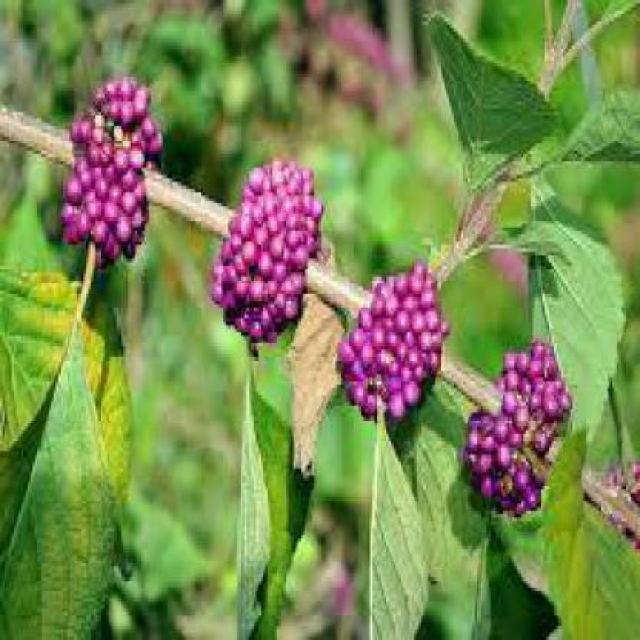flower: (210, 150, 327, 339), (460, 330, 574, 519), (72, 79, 160, 261), (349, 264, 431, 425)
